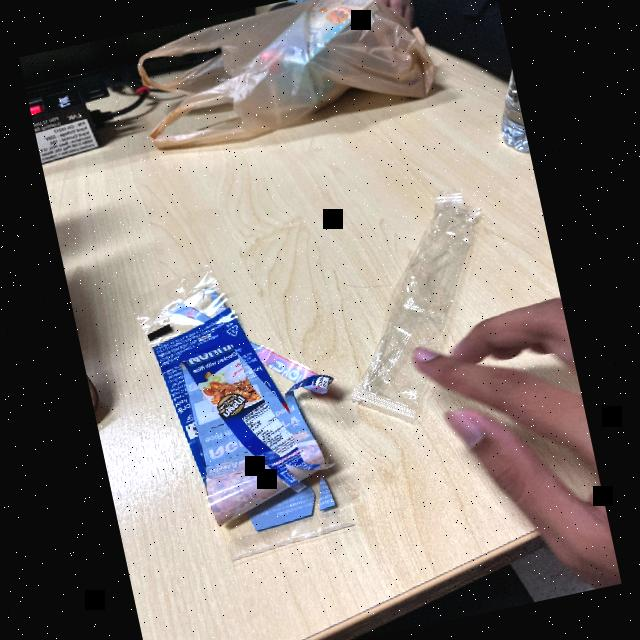scrap_plastic: (121, 253, 369, 574), (310, 192, 536, 433)
